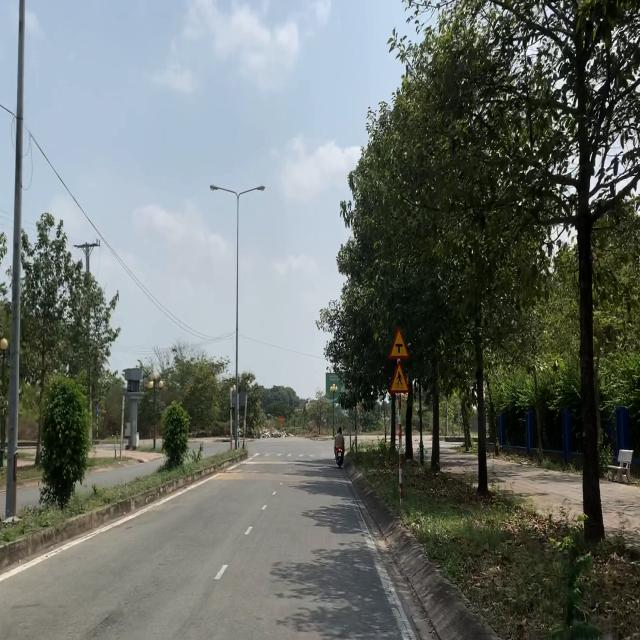Duong giao nhau: (388, 326, 411, 361)
Nguoi di bo cat ngang: (388, 361, 411, 394)
